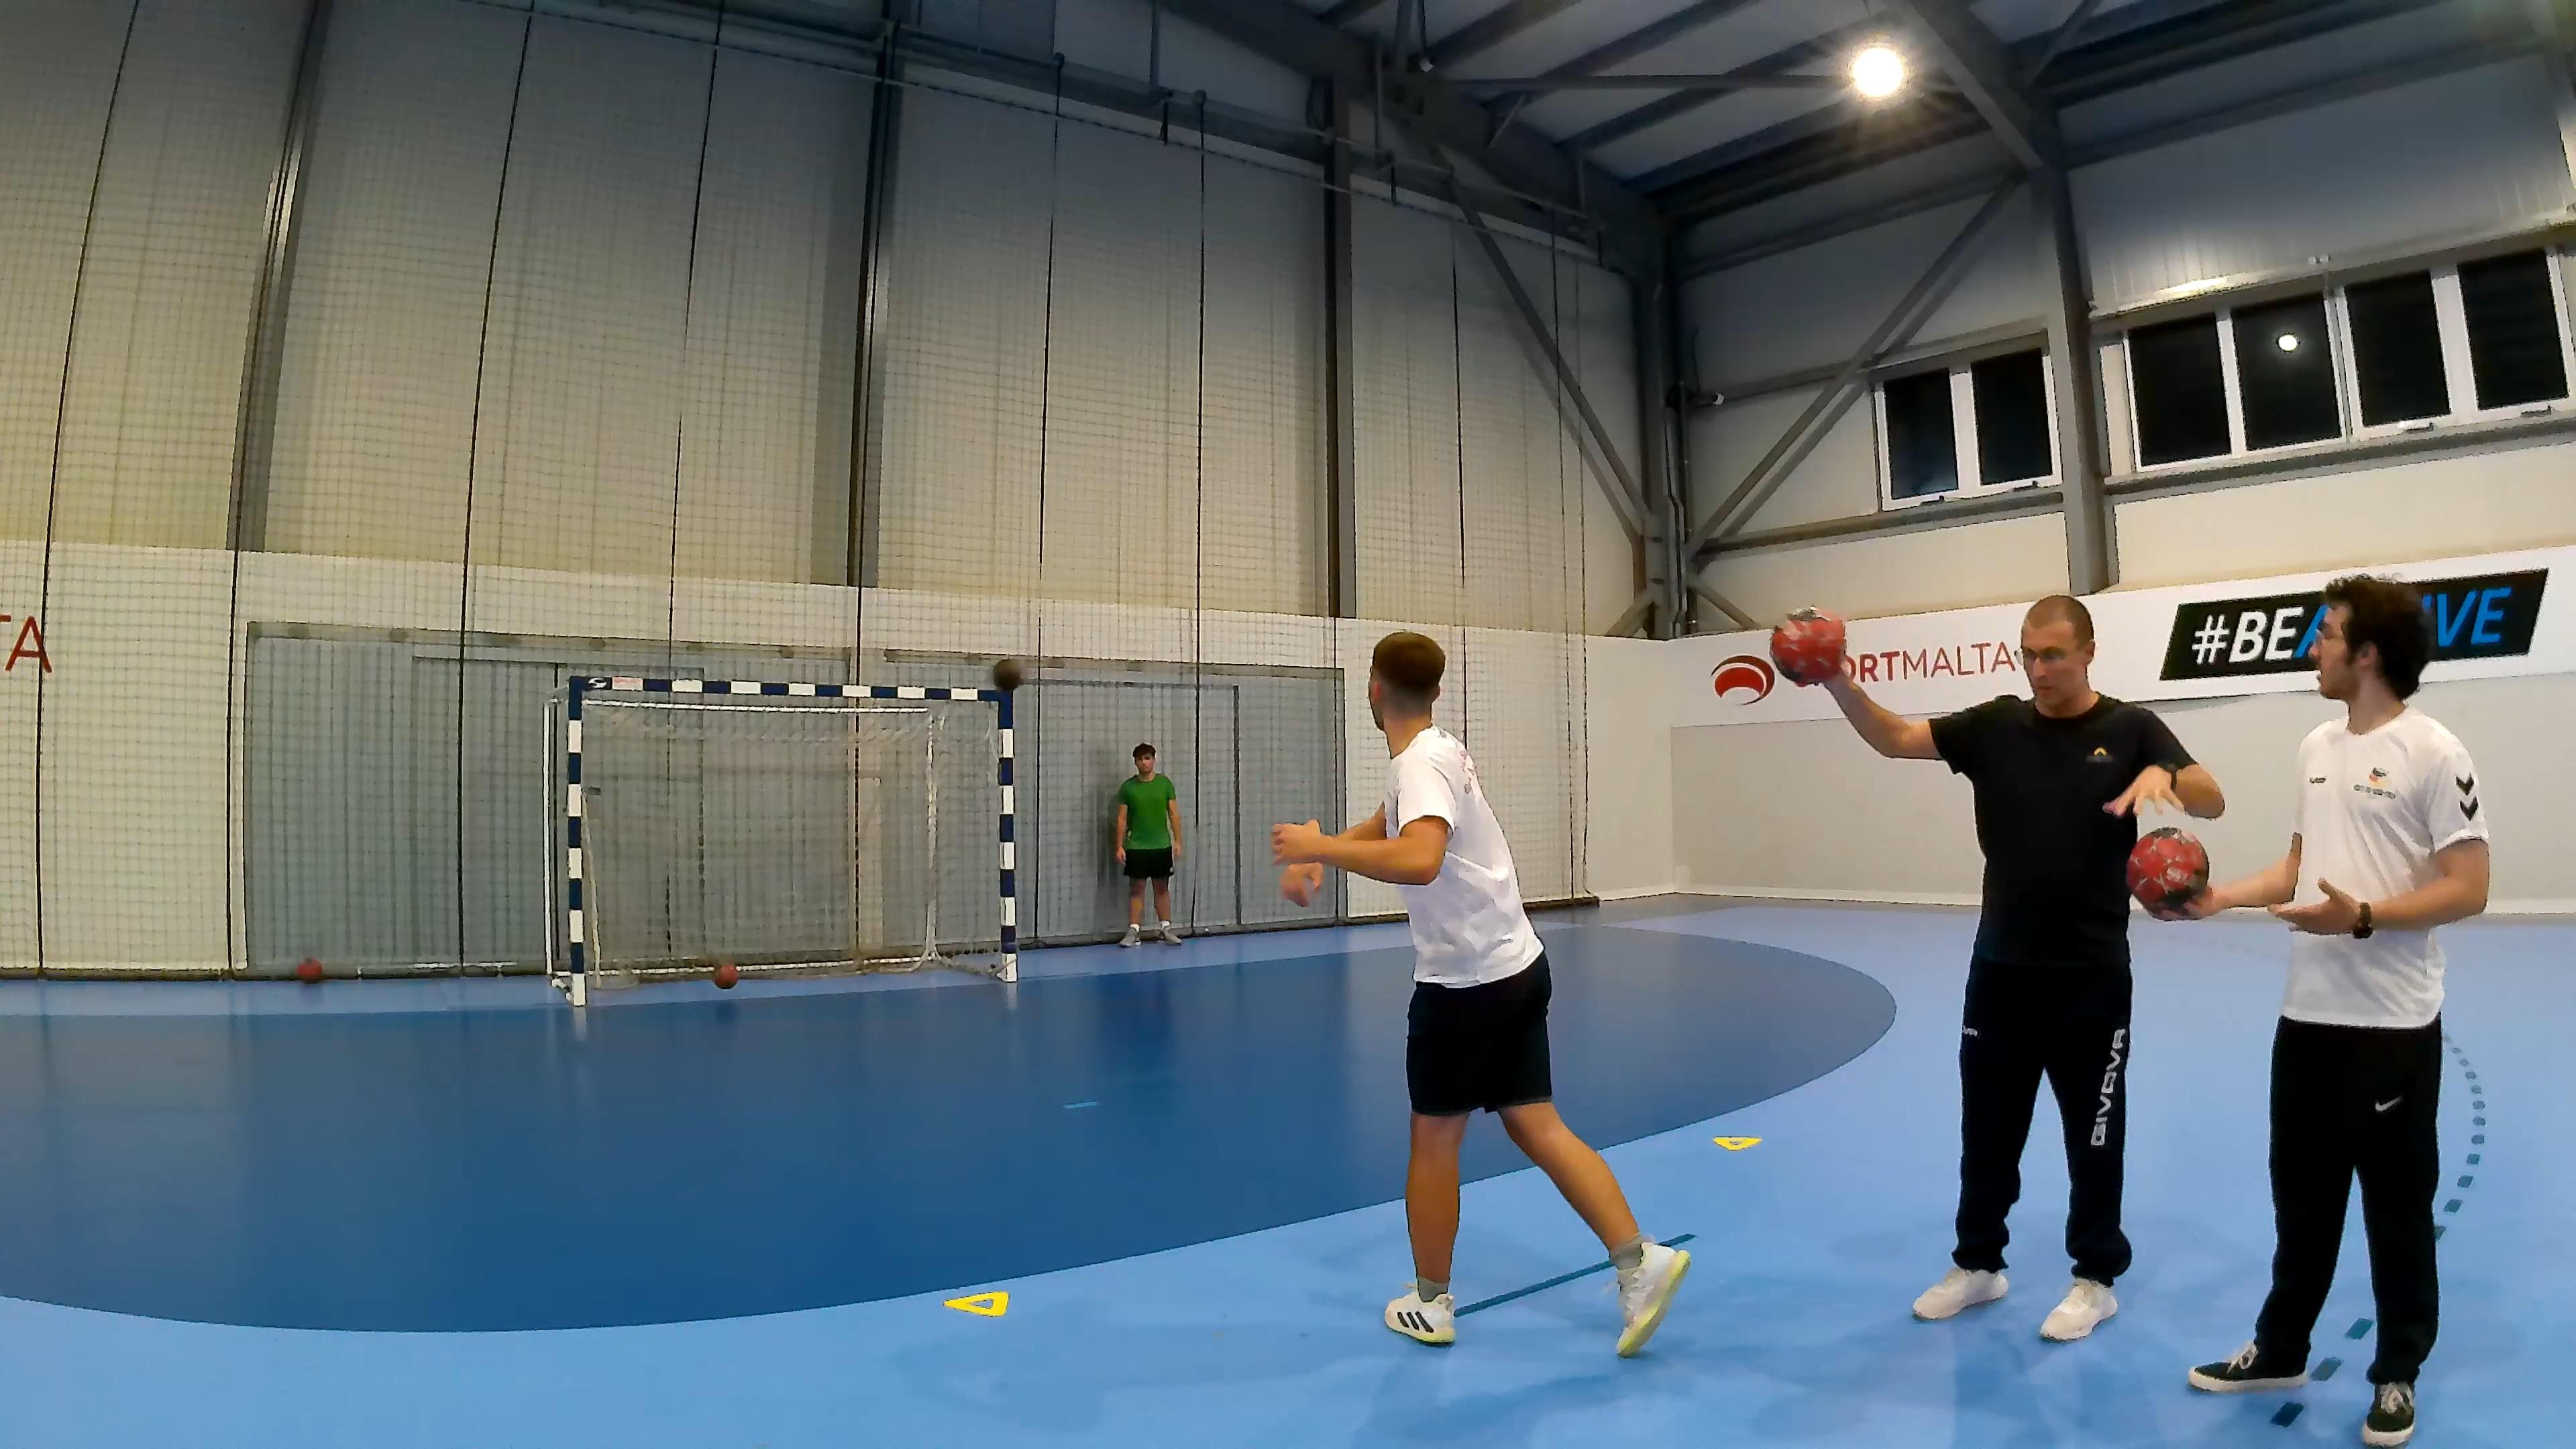handball: (2125, 826, 2208, 913), (1769, 605, 1845, 685), (1277, 858, 1322, 908), (292, 952, 329, 989), (711, 959, 747, 994), (991, 656, 1023, 690)
